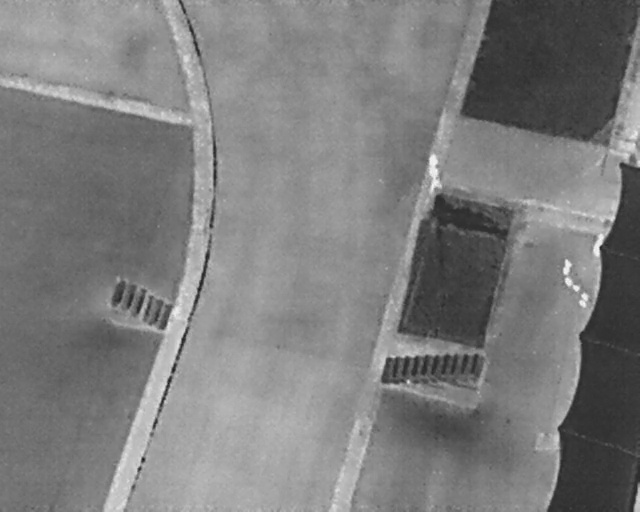Person: (590, 230, 606, 259), (430, 170, 443, 194), (429, 152, 439, 173)
